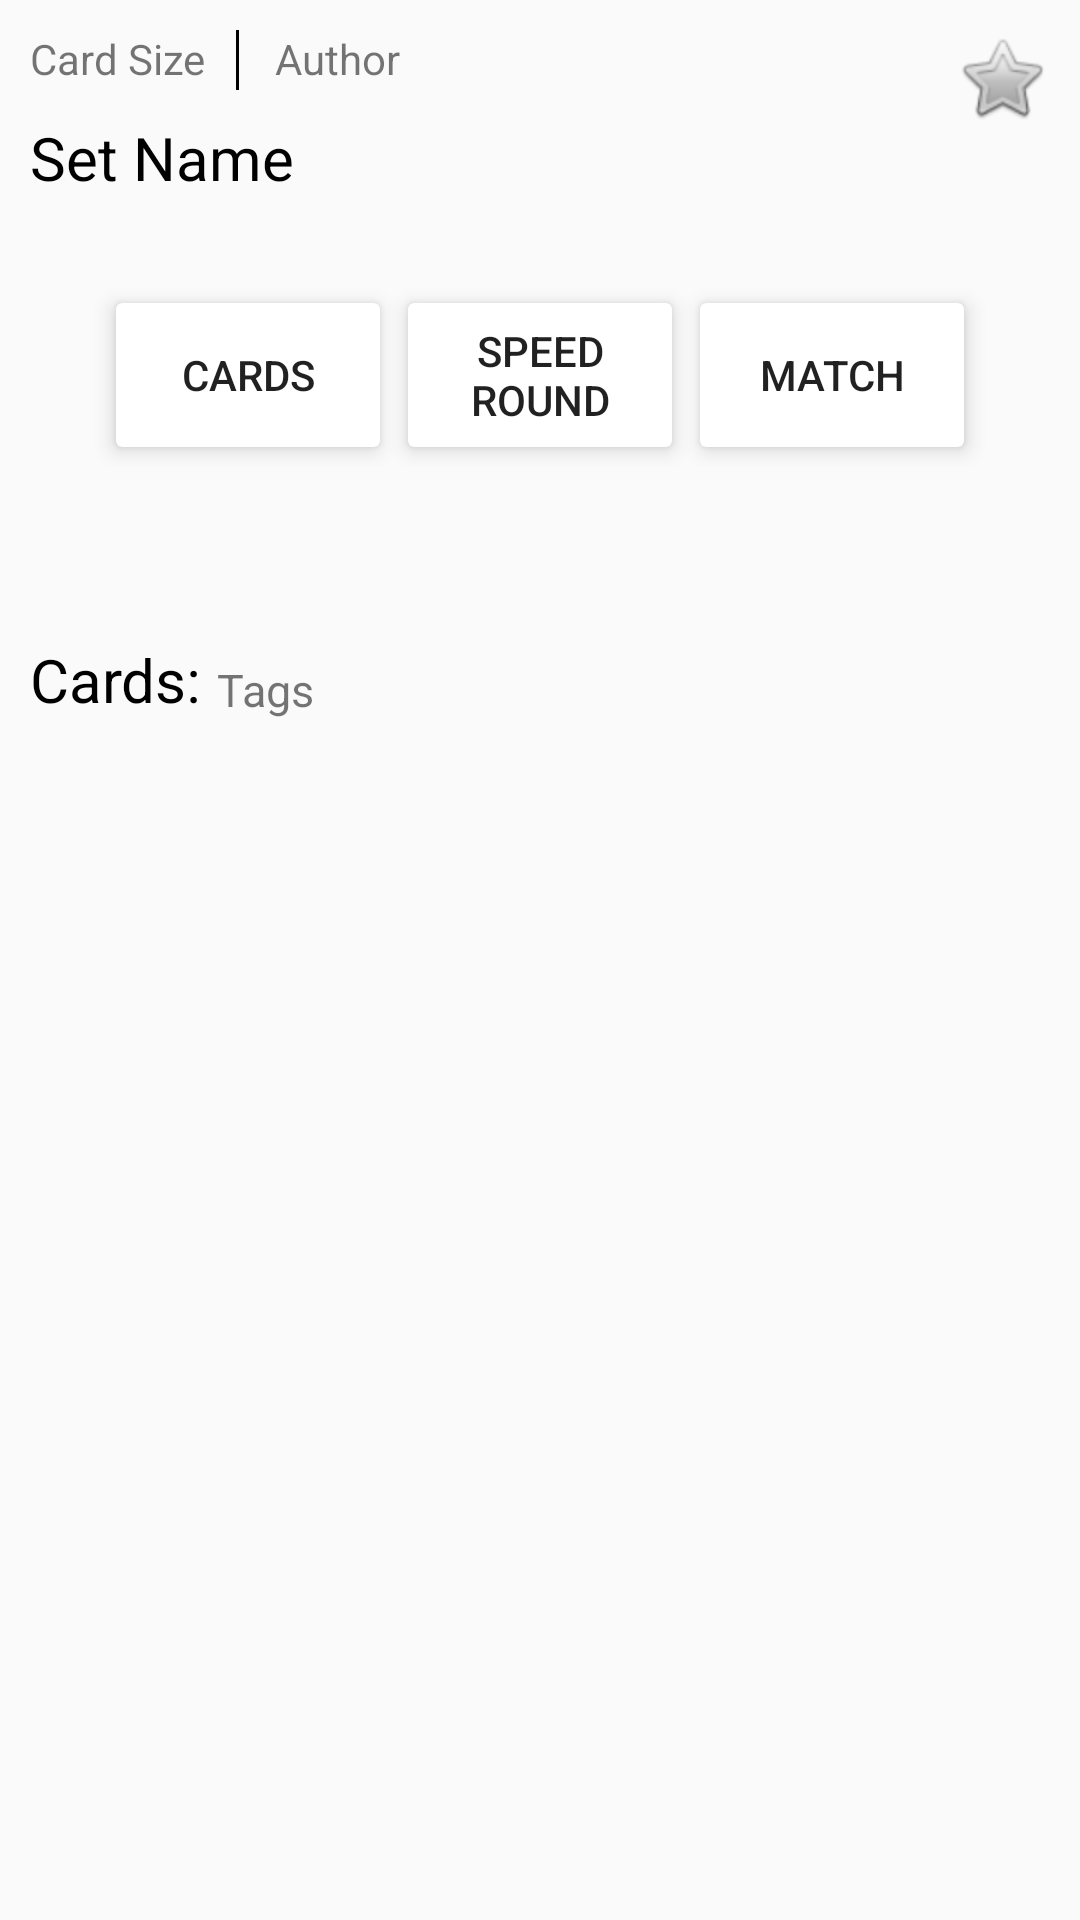

Point at icon controls on the screen. Image size 1080×1920, points as [x,y].
star: [1003,79]
